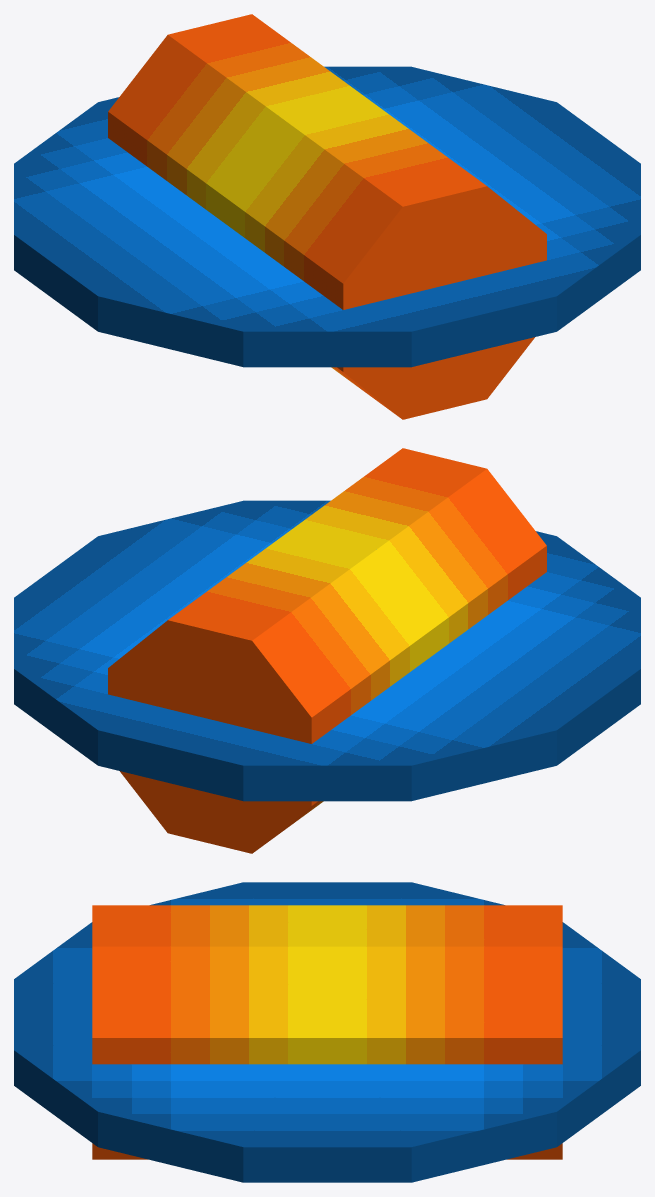
Rendered from powerUp.fbx.
The picture shows the model from 3 angles, top to bottom: view 1: azimuth 30°, elevation 25°; view 2: azimuth 150°, elevation 25°; view 3: azimuth 270°, elevation 25°; orthographic projection.
Parts seen in each view (by area): view 1: base, core; view 2: base, core; view 3: base, core.
Part boxes in pixels (<box>): base: <box>14,66,640,367</box>; core: <box>108,14,546,419</box>; base: <box>14,500,640,801</box>; core: <box>108,448,546,853</box>; base: <box>14,882,640,1182</box>; core: <box>92,905,562,1159</box>.
Bounding box in the file's own units: 100 × 37.5 × 100.
2 materials, 2 textured.
